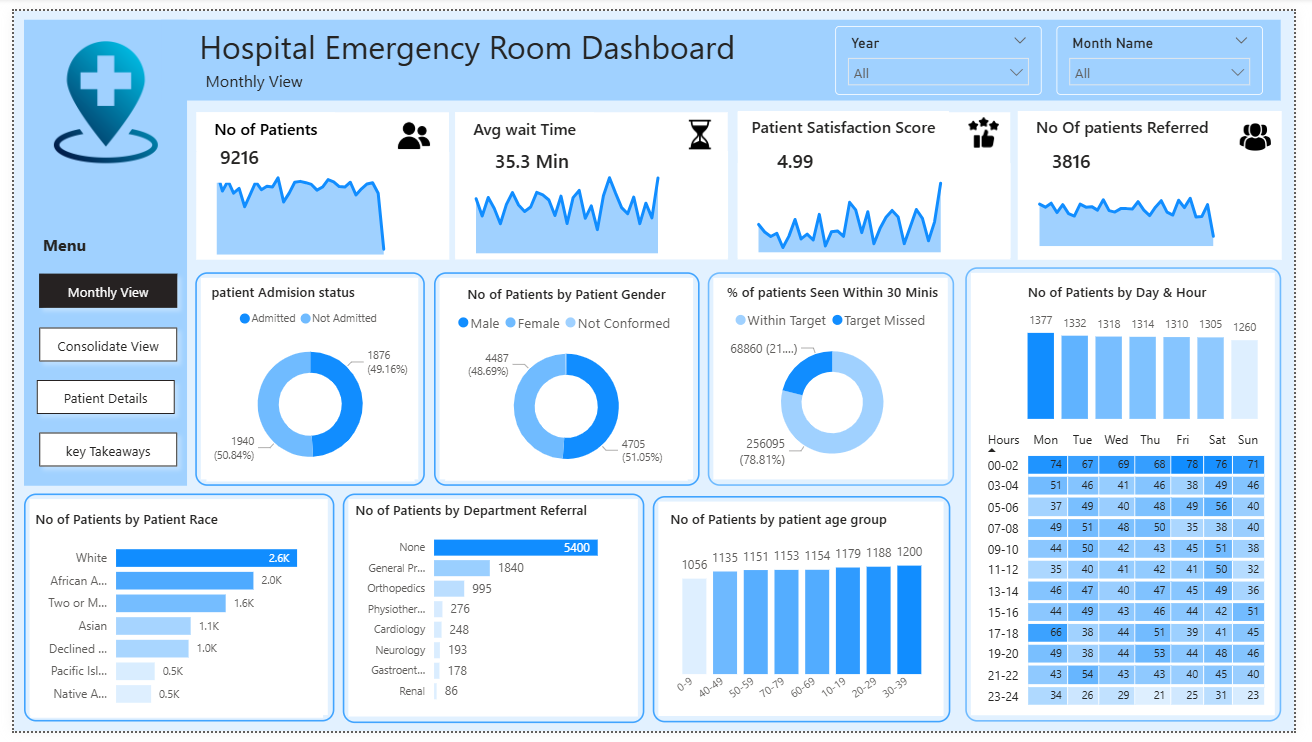

The dashboard page shown, as its layout file describes it:
{"tool":"powerbi","page":{"name":"Monthly View","canvas":[1280,720],"ordinal":0},"visuals":[{"type":"shape","box":[694,261.1,246.7,213.5],"z":0},{"type":"shape","box":[639.1,484.8,297.2,226.5],"z":1000},{"type":"shape","box":[328.9,481.9,301.5,229.4],"z":2000},{"type":"shape","box":[181.8,261.1,229.4,213.5],"z":3000},{"type":"shape","box":[441.2,101.2,272.5,147.5],"z":4000},{"type":"areaChart","fields":{"Category":["Date Table.Date.Variation.Date Hierarchy.Day"],"Y":["Avg(Hospital ER_Data.Patient Waittime)"]},"box":[441.2,140,272.5,107.5],"z":5000},{"type":"shape","box":[182.5,101.2,252.5,147.5],"z":6000},{"type":"shape","box":[10.1,8.7,163,466],"z":7000},{"type":"shape","box":[147.2,8.7,1119.6,80.8],"z":8000},{"type":"textbox","box":[171.2,8.6,563.7,69.7],"z":9000},{"type":"textbox","box":[183.4,53.8,112.5,31.8],"z":10000},{"type":"image","box":[26,30.3,131.3,122.6],"z":11000},{"type":"areaChart","fields":{"Y":["Hospital ER_Data.No of Patients"],"Category":["Date Table.Date.Variation.Date Hierarchy.Day"]},"box":[182.5,141.2,252.5,107.5],"z":12000},{"type":"card","fields":{"Values":["Hospital ER_Data.No of Patients"]},"box":[192,123.5,66,47.7],"z":13000},{"type":"textbox","box":[182.5,101.2,138.8,38.8],"z":14000},{"type":"shape","box":[1003.9,100.3,264.1,149.2],"z":15000},{"type":"shape","box":[723.8,101.2,272.5,147.5],"z":16000},{"type":"image","box":[378.8,106.2,42.5,35],"z":17000},{"type":"textbox","box":[441.2,101.2,138.8,38.8],"z":18000},{"type":"textbox","box":[723.9,100.3,211.6,39.1],"z":19000},{"type":"textbox","box":[1005.2,100.3,206.7,39.1],"z":20000},{"type":"card","fields":{"Values":["Hospital ER_Data.Avg wait time"]},"box":[458.8,129.8,118.3,43.3],"z":21000},{"type":"areaChart","fields":{"Category":["Date Table.Date.Variation.Date Hierarchy.Day"],"Y":["Avg(Hospital ER_Data.Patient Satisfaction Score)"]},"box":[723.9,152.9,272.7,94.2],"z":22000},{"type":"card","fields":{"Values":["Hospital ER_Data.avg Patient satisfaction score"]},"box":[734.4,129.8,95.2,43.3],"z":23000},{"type":"areaChart","fields":{"Category":["Date Table.Date.Variation.Date Hierarchy.Day"],"Y":["Hospital ER_Data.No OF Patients are refered"]},"box":[1005.2,146.7,261.7,94.2],"z":24000},{"type":"card","fields":{"Values":["Hospital ER_Data.No OF Patients are refered"]},"box":[1018.6,129.6,77,42.8],"z":25000},{"type":"image","box":[667.7,108.8,36.7,29.3],"z":26000},{"type":"image","box":[1222,109.6,37.5,31.7],"z":27000},{"type":"image","box":[951.4,106.4,36.7,30.6],"z":28000},{"type":"shape","box":[10.1,481.9,310.2,228],"z":29000},{"type":"columnChart","fields":{"Y":["Hospital ER_Data.No of Patients"],"Category":["Hospital ER_Data.patient age group"]},"box":[650.7,499.2,274.1,200.5],"z":30000},{"type":"shape","box":[419.8,261.1,265.5,213.5],"z":31000},{"type":"clusteredBarChart","fields":{"Category":["Hospital ER_Data.Department Referral"],"Y":["Hospital ER_Data.No of Patients"]},"box":[336.2,490.5,284.2,212.1],"z":32000},{"type":"clusteredBarChart","fields":{"Category":["Hospital ER_Data.Patient Race"],"Y":["Hospital ER_Data.No of Patients"]},"box":[15.9,499.2,292.9,207.8],"z":33000},{"type":"donutChart","title":"% of patients Seen Within 30 Minis","fields":{"Category":["Hospital ER_Data.wait time status"],"Y":["Sum(Hospital ER_Data.Patient Waittime)"]},"box":[704.1,271.2,229.4,193.3],"z":34000},{"type":"donutChart","fields":{"Y":["Hospital ER_Data.No of Patients"],"Category":["Hospital ER_Data.Patient Gender"]},"box":[431.4,274.1,242.4,196.2],"z":35000},{"type":"donutChart","title":" patient Admision status","fields":{"Category":["Hospital ER_Data.patient Admision status"],"Y":["Hospital ER_Data.No OF Patients are refered"]},"box":[191.9,271.2,207.8,199.1],"z":36000},{"type":"shape","box":[950.8,256.8,316,454.5],"z":37000},{"type":"pivotTable","title":"% of patients Seen Within 30 Minis","fields":{"Rows":["Hospital ER_Data.wait time interval"],"Columns":["Date Table.Day Name"],"Values":["Hospital ER_Data.No OF Patients are refered"]},"box":[963.8,414.1,295.8,285.7],"z":38000},{"type":"clusteredColumnChart","title":"No of Patients by Day & Hour","fields":{"Y":["Hospital ER_Data.No of Patients"],"Category":["Date Table.Day Name"]},"box":[1008.5,271.2,240.9,142.8],"z":39000},{"type":"pageNavigator","box":[15.9,254.3,156.5,52.6],"z":40000},{"type":"pageNavigator","box":[15.9,306.9,156.5,52.6],"z":41000},{"type":"pageNavigator","box":[13.5,359.5,156.5,52.6],"z":42000},{"type":"pageNavigator","box":[15.9,412.1,156.5,52.6],"z":43000},{"type":"textbox","box":[23.2,217.7,68.5,39.1],"z":44000},{"type":"slicer","fields":{"Values":["Date Table.Year"]},"box":[821.7,14.7,206.7,68.5],"z":45000},{"type":"slicer","fields":{"Values":["Date Table.Month Name"]},"box":[1043.1,14.7,206.7,68.5],"z":46000}]}

Visuals, with their boxes in screenshot pixels (x1, y1, x2, y2), scaled from the page's 1280x720 canvas onto the 1312x742 screenshot:
shape: rect(711, 269, 964, 489)
shape: rect(655, 500, 960, 733)
shape: rect(337, 497, 646, 733)
shape: rect(186, 269, 421, 489)
shape: rect(452, 104, 732, 256)
areaChart - Date Table.Date.Variation.Date Hierarchy.Day x Avg(Hospital ER_Data.Patient Waittime): rect(452, 144, 732, 255)
shape: rect(187, 104, 446, 256)
shape: rect(10, 9, 177, 489)
shape: rect(151, 9, 1298, 92)
textbox: rect(175, 9, 753, 81)
textbox: rect(188, 55, 303, 88)
image: rect(27, 31, 161, 158)
areaChart - Hospital ER_Data.No of Patients x Date Table.Date.Variation.Date Hierarchy.Day: rect(187, 146, 446, 256)
card - Hospital ER_Data.No of Patients: rect(197, 127, 264, 176)
textbox: rect(187, 104, 329, 144)
shape: rect(1029, 103, 1300, 257)
shape: rect(742, 104, 1021, 256)
image: rect(388, 109, 432, 146)
textbox: rect(452, 104, 594, 144)
textbox: rect(742, 103, 959, 144)
textbox: rect(1030, 103, 1242, 144)
card - Hospital ER_Data.Avg wait time: rect(470, 134, 592, 178)
areaChart - Date Table.Date.Variation.Date Hierarchy.Day x Avg(Hospital ER_Data.Patient Satisfaction Score): rect(742, 158, 1022, 255)
card - Hospital ER_Data.avg Patient satisfaction score: rect(753, 134, 850, 178)
areaChart - Date Table.Date.Variation.Date Hierarchy.Day x Hospital ER_Data.No OF Patients are refered: rect(1030, 151, 1299, 248)
card - Hospital ER_Data.No OF Patients are refered: rect(1044, 134, 1123, 178)
image: rect(684, 112, 722, 142)
image: rect(1253, 113, 1291, 146)
image: rect(975, 110, 1013, 141)
shape: rect(10, 497, 328, 732)
columnChart - Hospital ER_Data.No of Patients x Hospital ER_Data.patient age group: rect(667, 514, 948, 721)
shape: rect(430, 269, 702, 489)
clusteredBarChart - Hospital ER_Data.Department Referral x Hospital ER_Data.No of Patients: rect(345, 505, 636, 724)
clusteredBarChart - Hospital ER_Data.Patient Race x Hospital ER_Data.No of Patients: rect(16, 514, 317, 729)
"% of patients Seen Within 30 Minis" donutChart: rect(722, 279, 957, 479)
donutChart - Hospital ER_Data.No of Patients x Hospital ER_Data.Patient Gender: rect(442, 282, 691, 485)
" patient Admision status" donutChart: rect(197, 279, 410, 485)
shape: rect(975, 265, 1298, 733)
"% of patients Seen Within 30 Minis" pivotTable: rect(988, 427, 1291, 721)
"No of Patients by Day & Hour" clusteredColumnChart: rect(1034, 279, 1281, 427)
pageNavigator: rect(16, 262, 177, 316)
pageNavigator: rect(16, 316, 177, 370)
pageNavigator: rect(14, 370, 174, 425)
pageNavigator: rect(16, 425, 177, 479)
textbox: rect(24, 224, 94, 265)
slicer - Date Table.Year: rect(842, 15, 1054, 86)
slicer - Date Table.Month Name: rect(1069, 15, 1281, 86)
